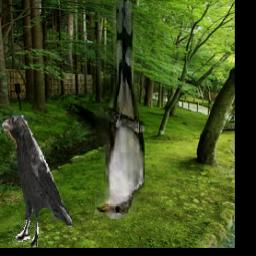Crow: (0, 116, 74, 248)
Cuckoo: (95, 0, 145, 219)
